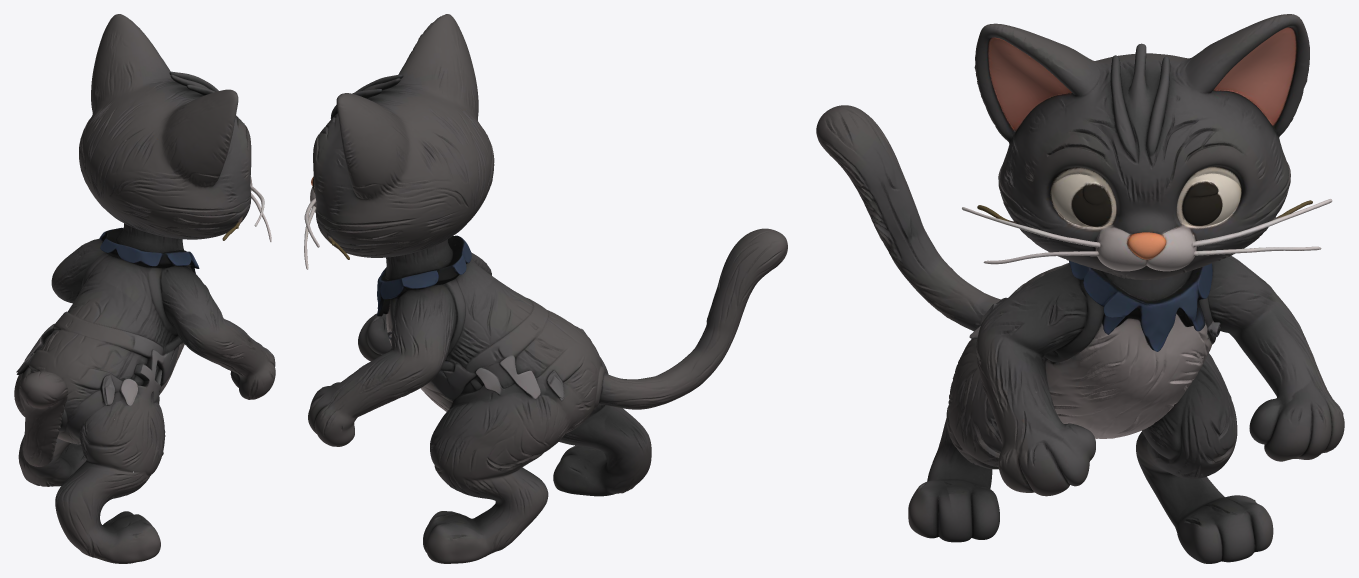
The model's file is model_412fecdb_draco.glb.
The picture shows the model from 3 angles, left to right: view 1: azimuth 30°, elevation 25°; view 2: azimuth 150°, elevation 25°; view 3: azimuth 270°, elevation 25°; orthographic projection. The views are drawn at different scales.
Parts seen in each view (by area): view 1: tripo_node_412fecdb-7e93-4dc4-8d4c-94fbf00c9e84; view 2: tripo_node_412fecdb-7e93-4dc4-8d4c-94fbf00c9e84; view 3: tripo_node_412fecdb-7e93-4dc4-8d4c-94fbf00c9e84.
Part boxes in pixels (x1,y1,x2,y2): tripo_node_412fecdb-7e93-4dc4-8d4c-94fbf00c9e84: [14, 14, 275, 563]; tripo_node_412fecdb-7e93-4dc4-8d4c-94fbf00c9e84: [304, 14, 787, 563]; tripo_node_412fecdb-7e93-4dc4-8d4c-94fbf00c9e84: [816, 14, 1344, 563].
Size of the model in its own units: 0.8217 by 0.9995 by 0.8113.
Materials: 1 (1 with a texture image).
